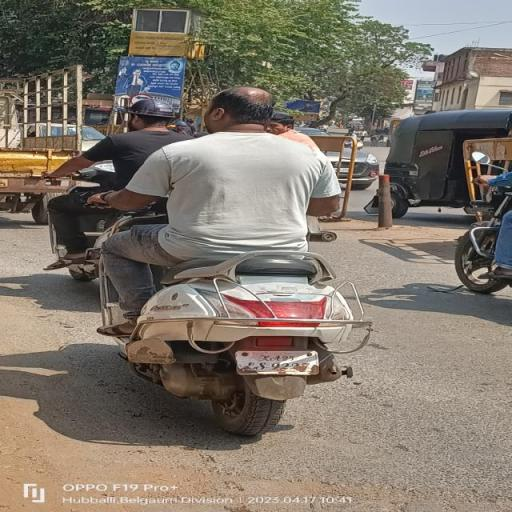bike: (84, 80, 366, 438)
numberplate: (235, 352, 321, 376)
withouthelmet: (209, 88, 269, 126)
